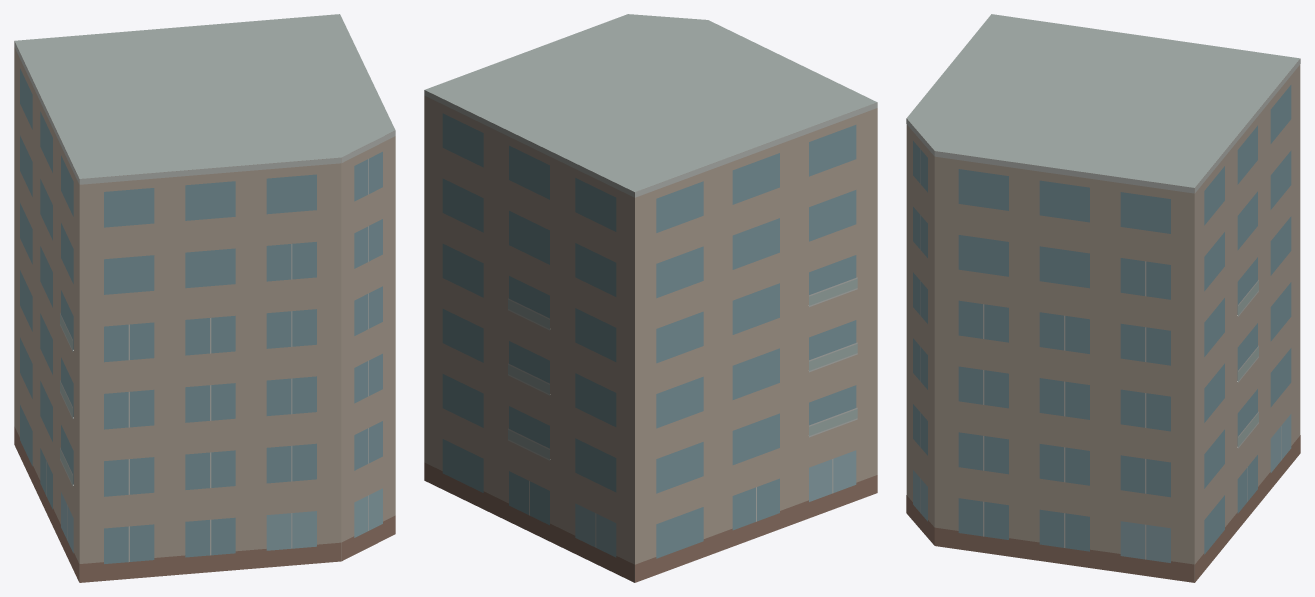
The model's file is survey-upis-32698098.glb.
The picture shows the model from 3 angles, left to right: view 1: azimuth 30°, elevation 25°; view 2: azimuth 150°, elevation 25°; view 3: azimuth 270°, elevation 25°; orthographic projection. The views are drawn at different scales.
Visible parts, largest first — view 1: survey-upis-32698098.tmp; view 2: survey-upis-32698098.tmp; view 3: survey-upis-32698098.tmp.
Boxes of the visible parts, bbox=[...] form: survey-upis-32698098.tmp: bbox=[14, 14, 395, 582]; survey-upis-32698098.tmp: bbox=[424, 14, 877, 582]; survey-upis-32698098.tmp: bbox=[906, 14, 1300, 582].
Bounding box in the file's own units: 16.07 × 17 × 15.38.
